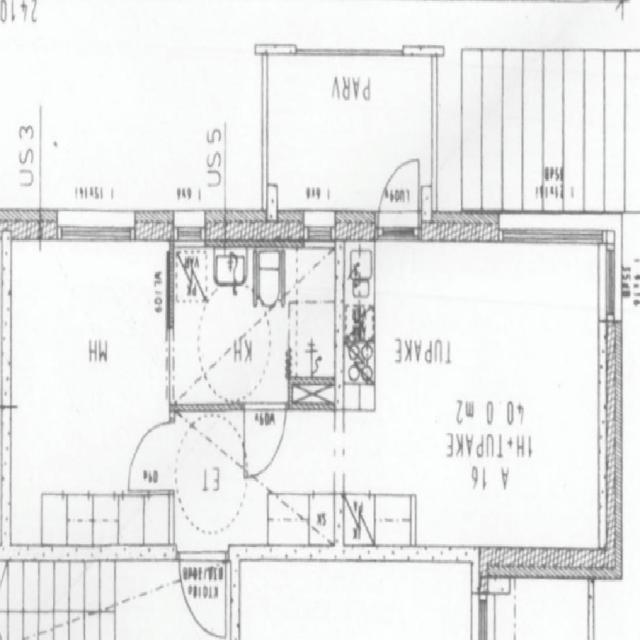door: (178, 546, 225, 640), (377, 140, 418, 242), (244, 403, 285, 481), (129, 422, 174, 490)
